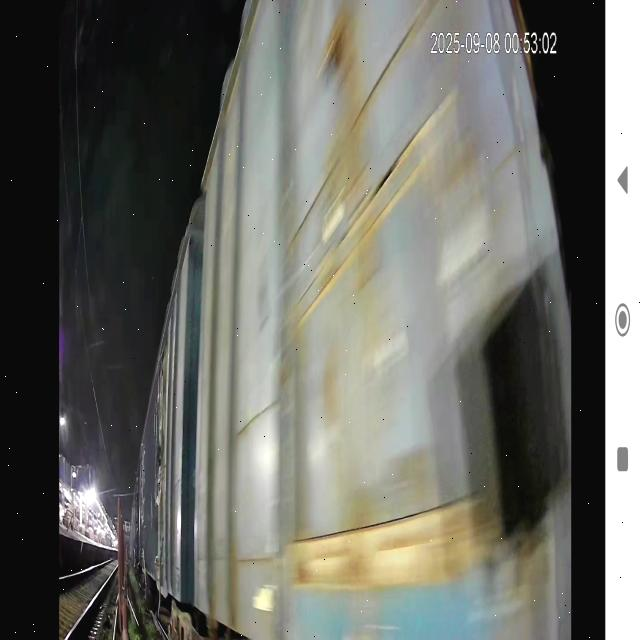coach: (202, 4, 578, 640)
